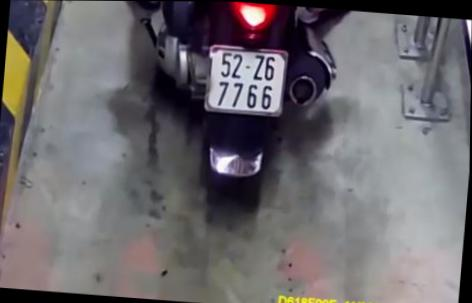LP: (202, 40, 290, 121)
